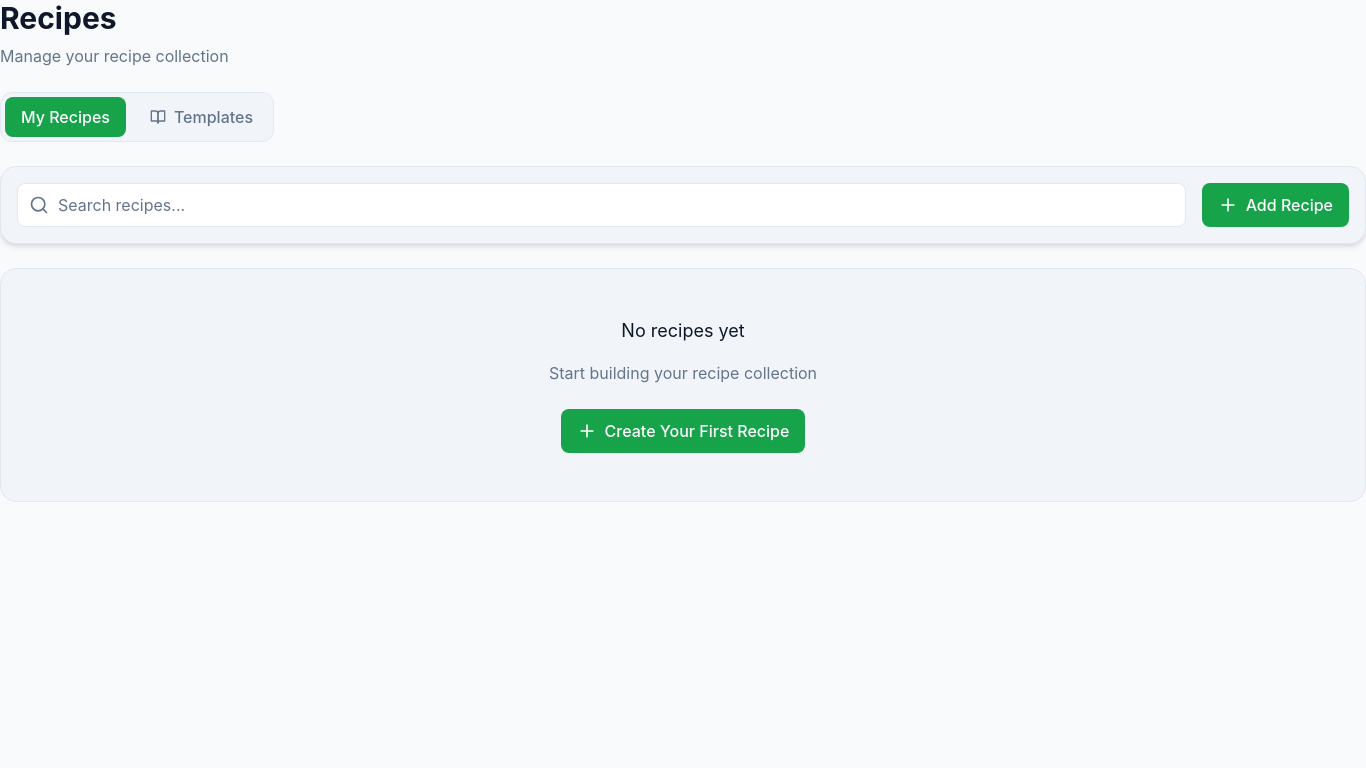
Recipes Page User Interface › should open recipe creation form modal with empty fields when user clicks Add Recipe button
The image size is (1366, 768).
Check: the text "No recipes yet" is shown, box [621, 320, 745, 341]
Step 1. Click the button "Add Recipe" → (1275, 205), box [1202, 183, 1349, 227]
(page scrolled)
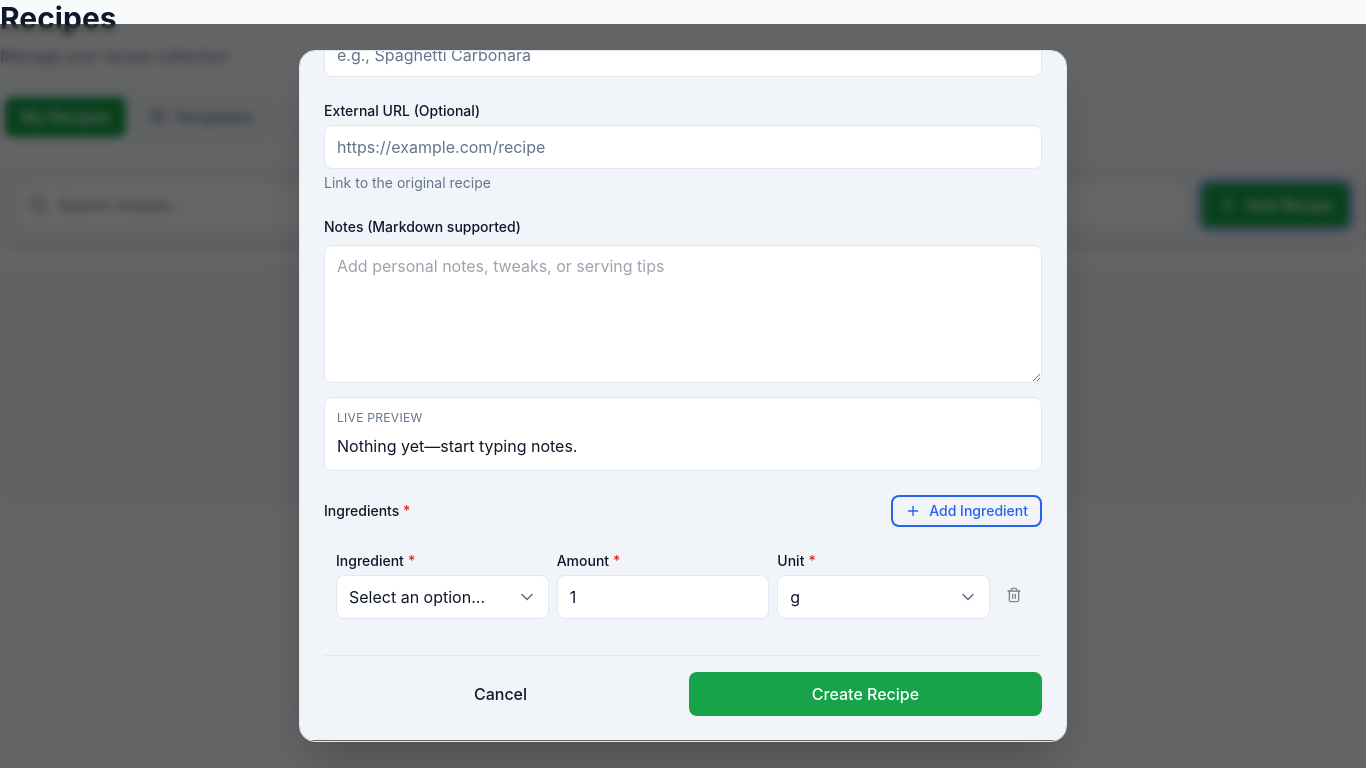
Check: the field labelled "Recipe Name*" is shown, box [324, 50, 1042, 77]
Check: the button "Create Recipe" is shown, box [689, 672, 1042, 716]
